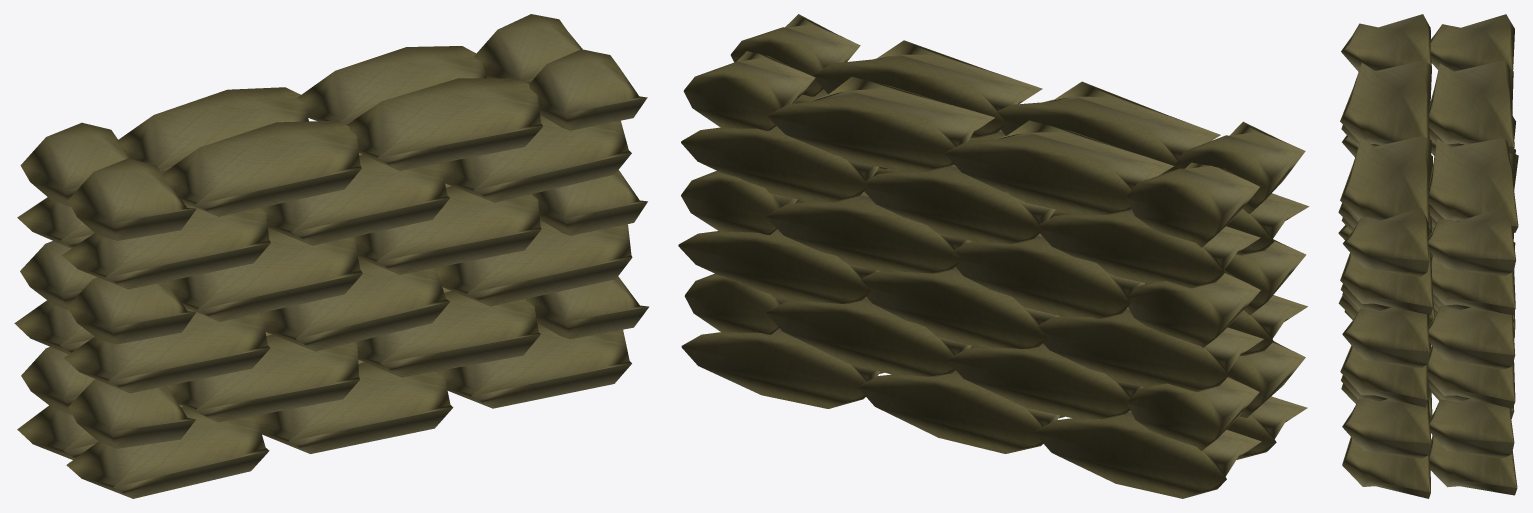
File: sandbag_wall.glb
The picture shows the model from 3 angles, left to right: view 1: azimuth 30°, elevation 25°; view 2: azimuth 150°, elevation 25°; view 3: azimuth 270°, elevation 25°; orthographic projection. The views are drawn at different scales.
Parts seen in each view (by area): view 1: sandbag_wall; view 2: sandbag_wall; view 3: sandbag_wall.
Part boxes in pixels (left/top/right/bottom): sandbag_wall: left=14, top=14, right=648, bottom=498; sandbag_wall: left=678, top=14, right=1309, bottom=498; sandbag_wall: left=1338, top=14, right=1518, bottom=498.
Size of the model in its own units: 2.07 by 1.16 by 0.6602.
1 material, 1 textured.
